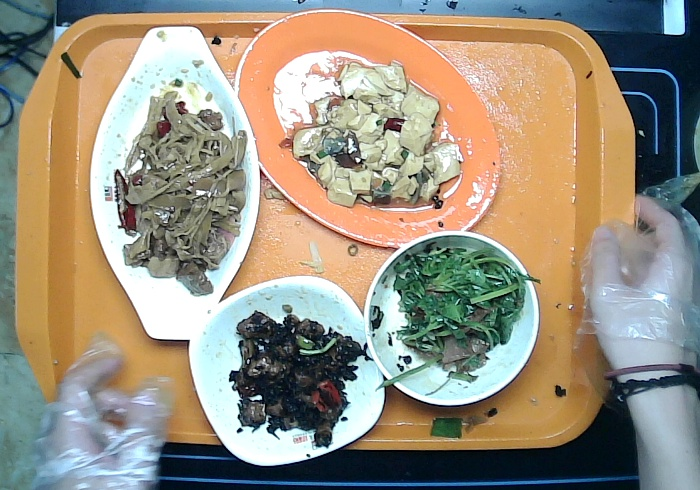NLDX-Bai_Se_Xiao_Fang_Die: (186, 272, 388, 470)
NLDX-Fan_Wan: (360, 227, 543, 409)
NLDX-Ju_Se_Pan: (230, 7, 503, 256)
NLDX-Yu_Pan: (87, 25, 263, 343)
